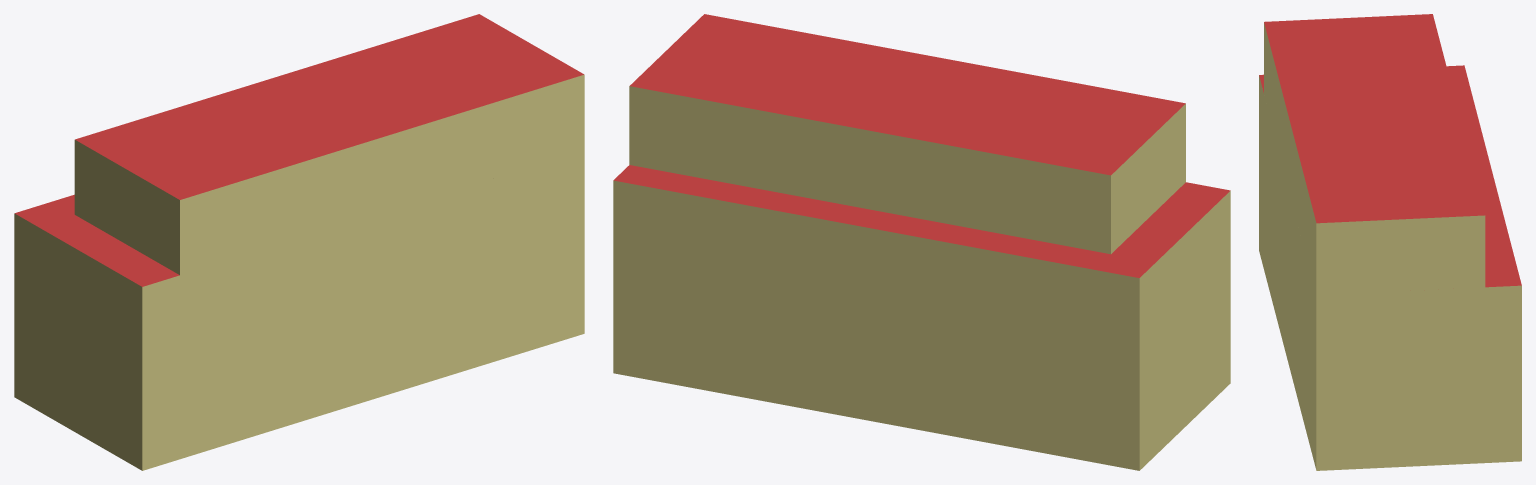
3 renders of one model, left to right at view 1: azimuth 30°, elevation 25°; view 2: azimuth 150°, elevation 25°; view 3: azimuth 270°, elevation 25°, orthographic. The views are drawn at different scales.
Parts seen in each view (by area): view 1: group_6, group_5, group_4, group_3; view 2: group_6, group_5, group_4, group_3; view 3: group_6, group_4, group_5, group_3.
Boxes of the visible parts, box(x1,y1,x2,y2) form: group_6: box(14, 150, 584, 470); group_5: box(74, 74, 584, 275); group_4: box(75, 14, 583, 199); group_3: box(15, 194, 179, 286); group_6: box(613, 180, 1230, 470); group_5: box(629, 86, 1185, 254); group_4: box(630, 14, 1185, 175); group_3: box(613, 165, 1230, 277); group_6: box(1259, 75, 1521, 470); group_4: box(1264, 14, 1484, 223); group_5: box(1264, 23, 1485, 295); group_3: box(1259, 65, 1521, 287).
Size of the model in its own units: 21.04 by 10.17 by 10.57.
